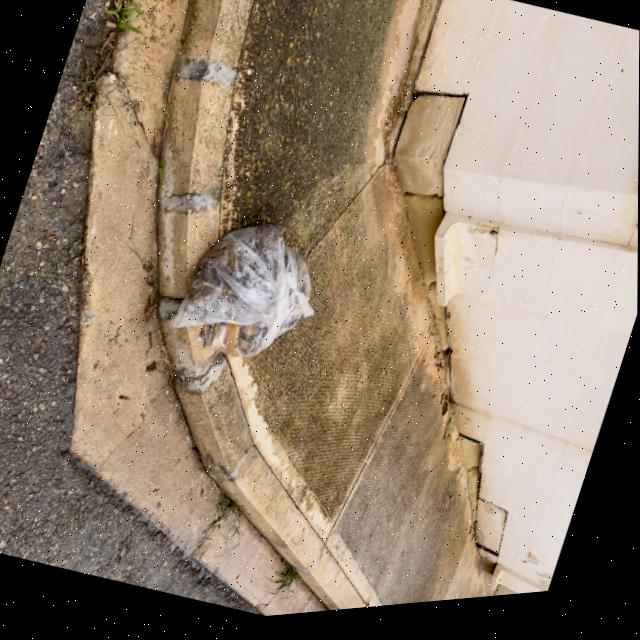Organic Waste -White Bag-: (160, 197, 317, 395), (193, 228, 332, 385)
